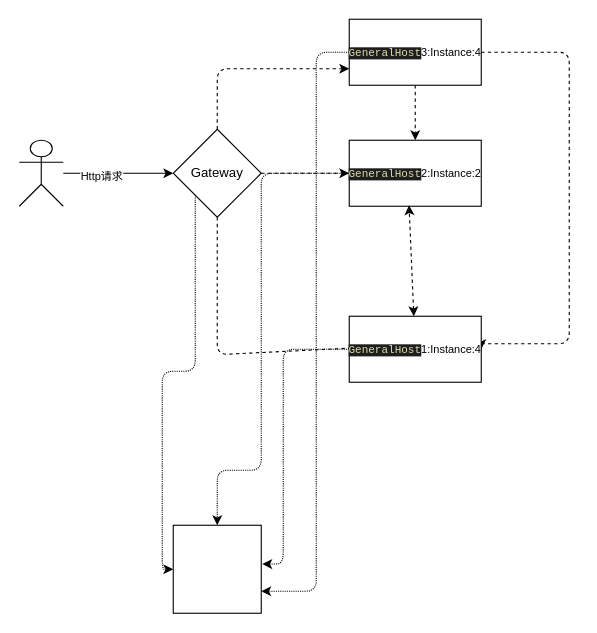
The diagram is 597 pixels wide and 633 high, and some of its shapes have lost their labels. Each missing label, with the centre of its shape:
Actor: (x=40, y=172)
RegisterCenter: (x=216, y=568)
